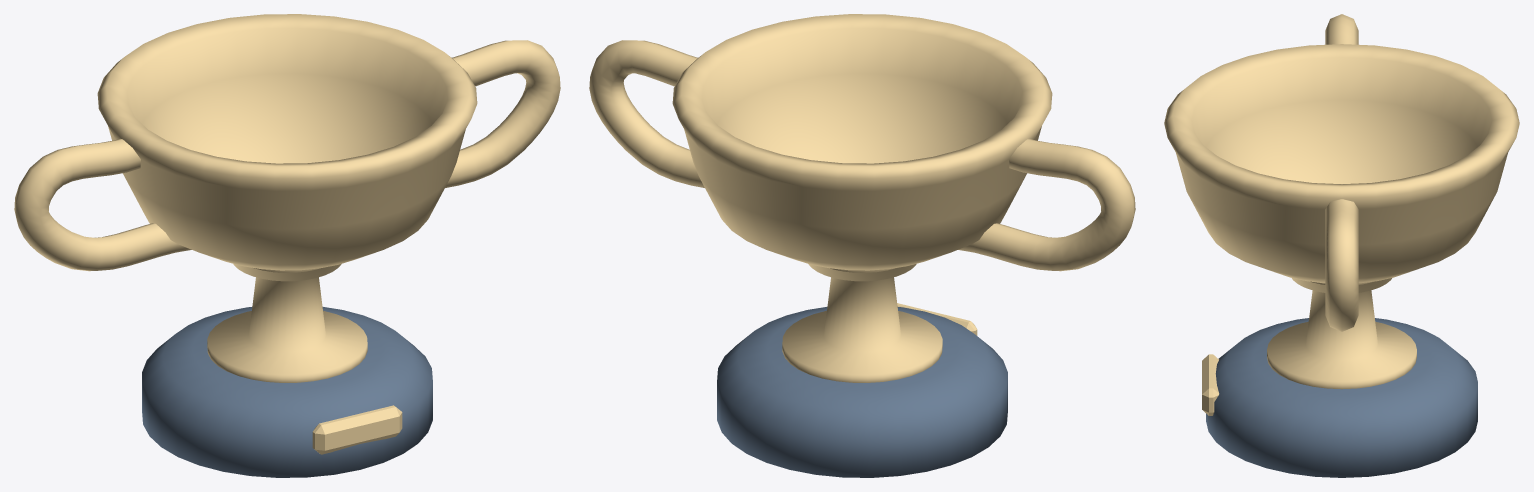
Rendered from cup.fbx.
3 views of the same model, side by side, from view 1: azimuth 30°, elevation 25°; view 2: azimuth 150°, elevation 25°; view 3: azimuth 270°, elevation 25° (orthographic). The views are drawn at different scales.
Visible parts, largest first — view 1: cup; view 2: cup; view 3: cup.
Boxes of the visible parts, box(x1,y1,x2,y2) form: cup: box(14, 14, 560, 477); cup: box(589, 14, 1135, 477); cup: box(1164, 14, 1519, 477).
Size of the model in its own units: 2.11 by 1.25 by 1.28.
